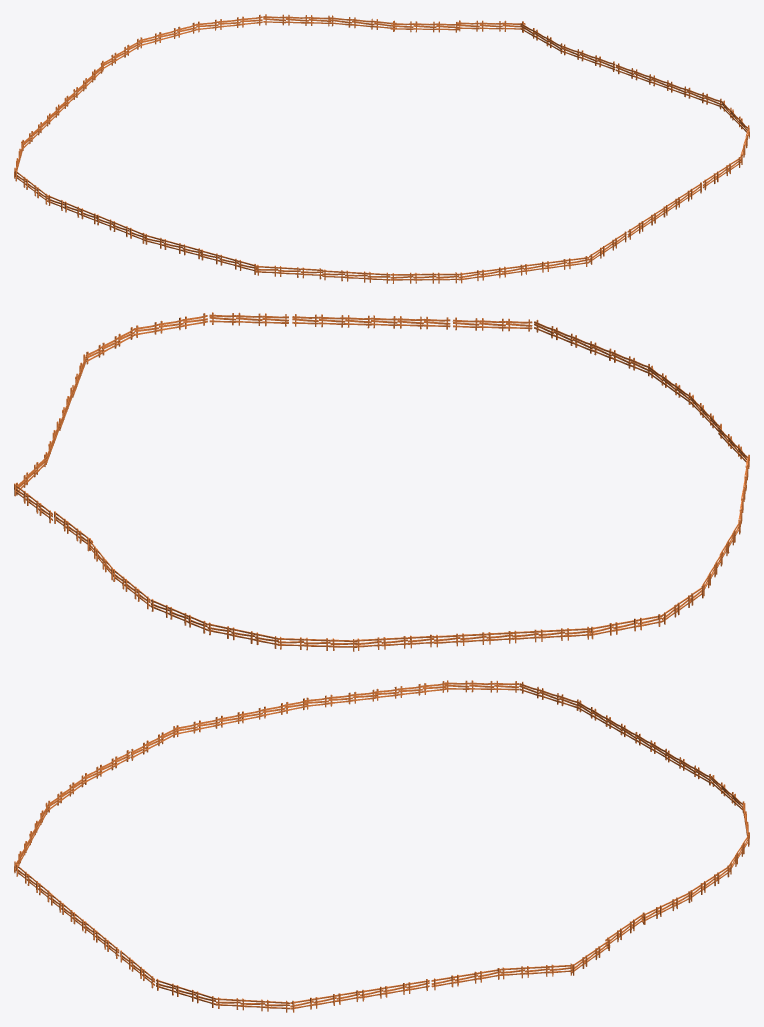
The model's file is fence.gltf.
The picture shows the model from 3 angles, top to bottom: view 1: azimuth 30°, elevation 25°; view 2: azimuth 150°, elevation 25°; view 3: azimuth 270°, elevation 25°; orthographic projection. The views are drawn at different scales.
Visible parts, largest first — view 1: fence.028; view 2: fence.028; view 3: fence.028.
Boxes of the visible parts, x1,y1,x2,y2 form: fence.028: [14, 14, 749, 283]; fence.028: [14, 312, 749, 651]; fence.028: [14, 680, 749, 1012].
Bounding box in the file's own units: 121 × 2.04 × 117.
